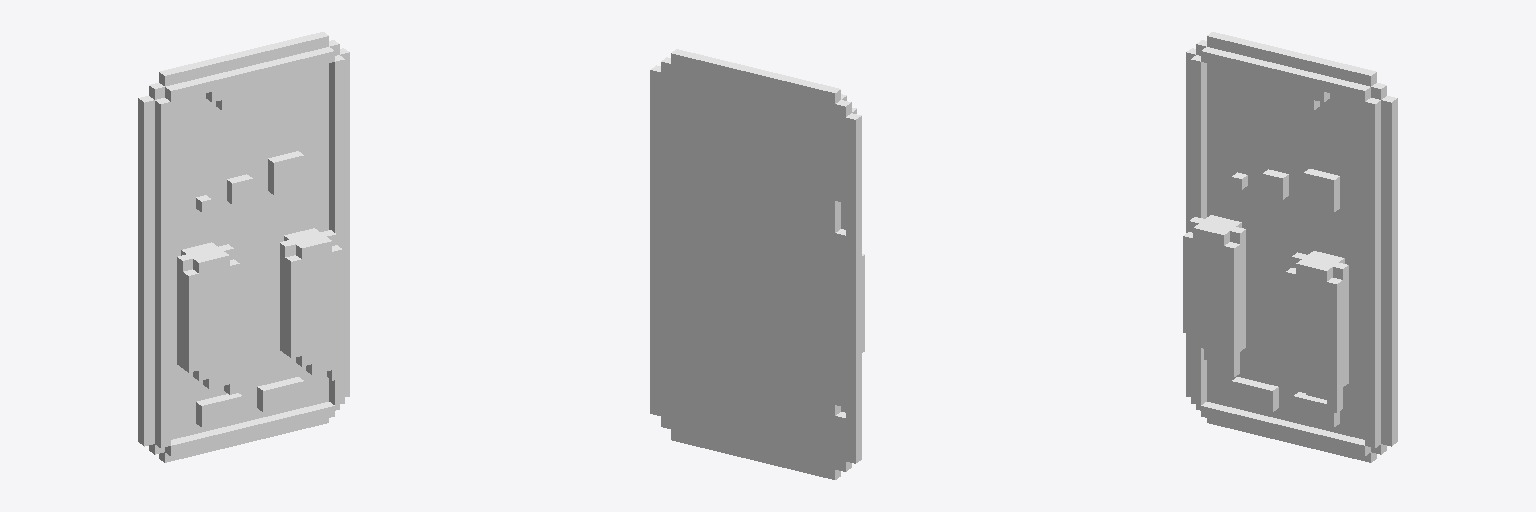
The model's file is phoneTapToDrag.obj.
3 renders of one model, left to right at view 1: azimuth 30°, elevation 25°; view 2: azimuth 150°, elevation 25°; view 3: azimuth 330°, elevation 25°, orthographic.
Bounding box in the file's own units: 20 × 36 × 5.